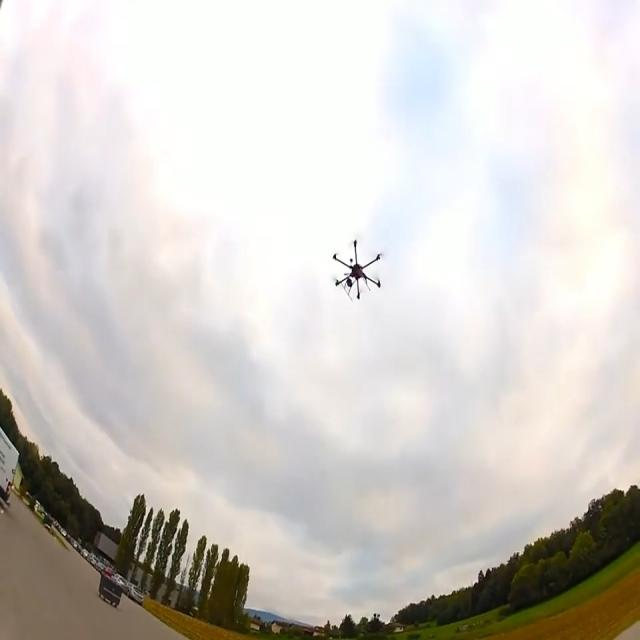drone: (332, 238, 382, 300)
